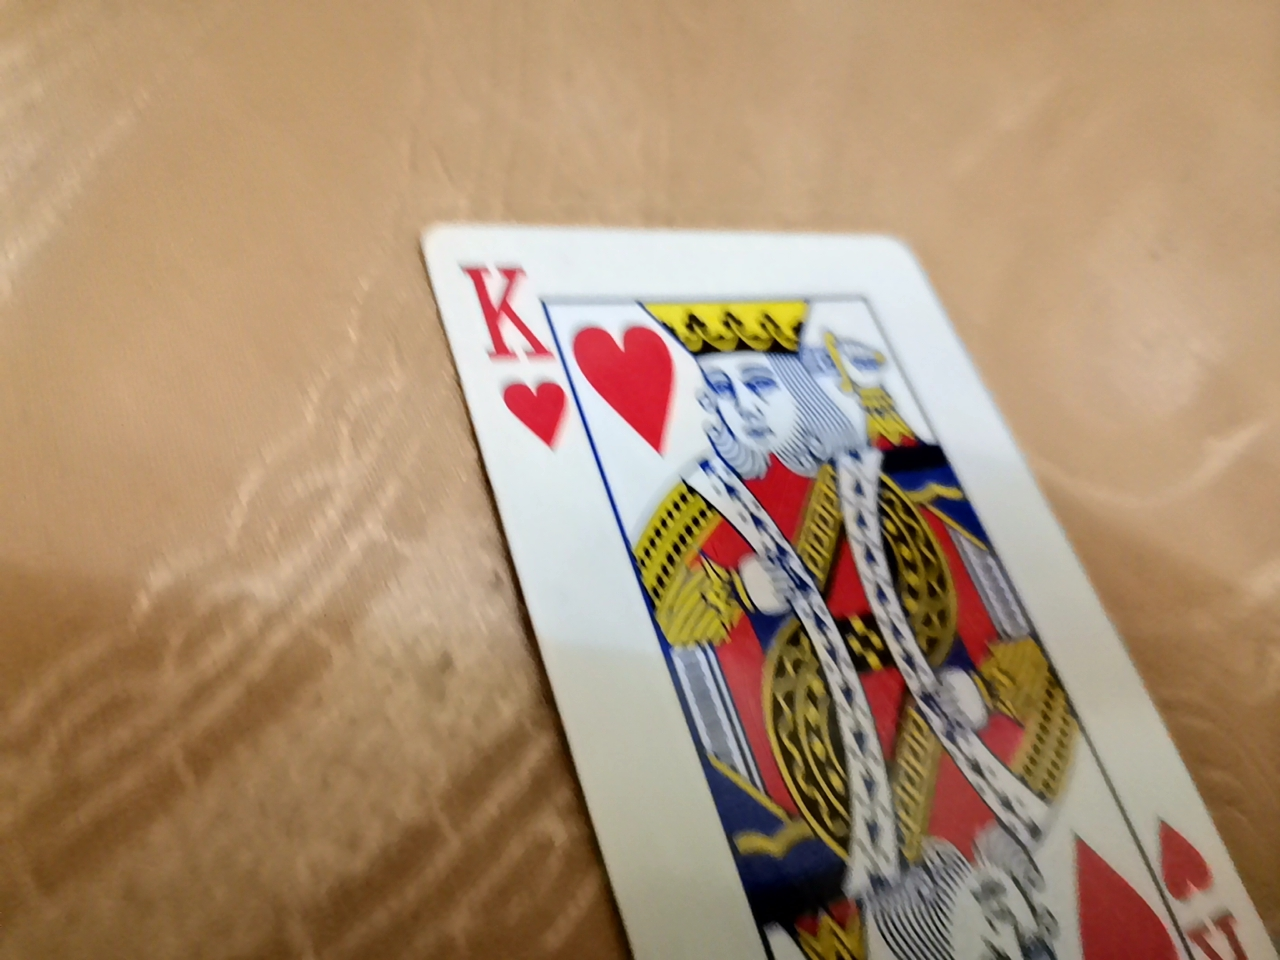hx k: (358, 171, 1206, 953)
